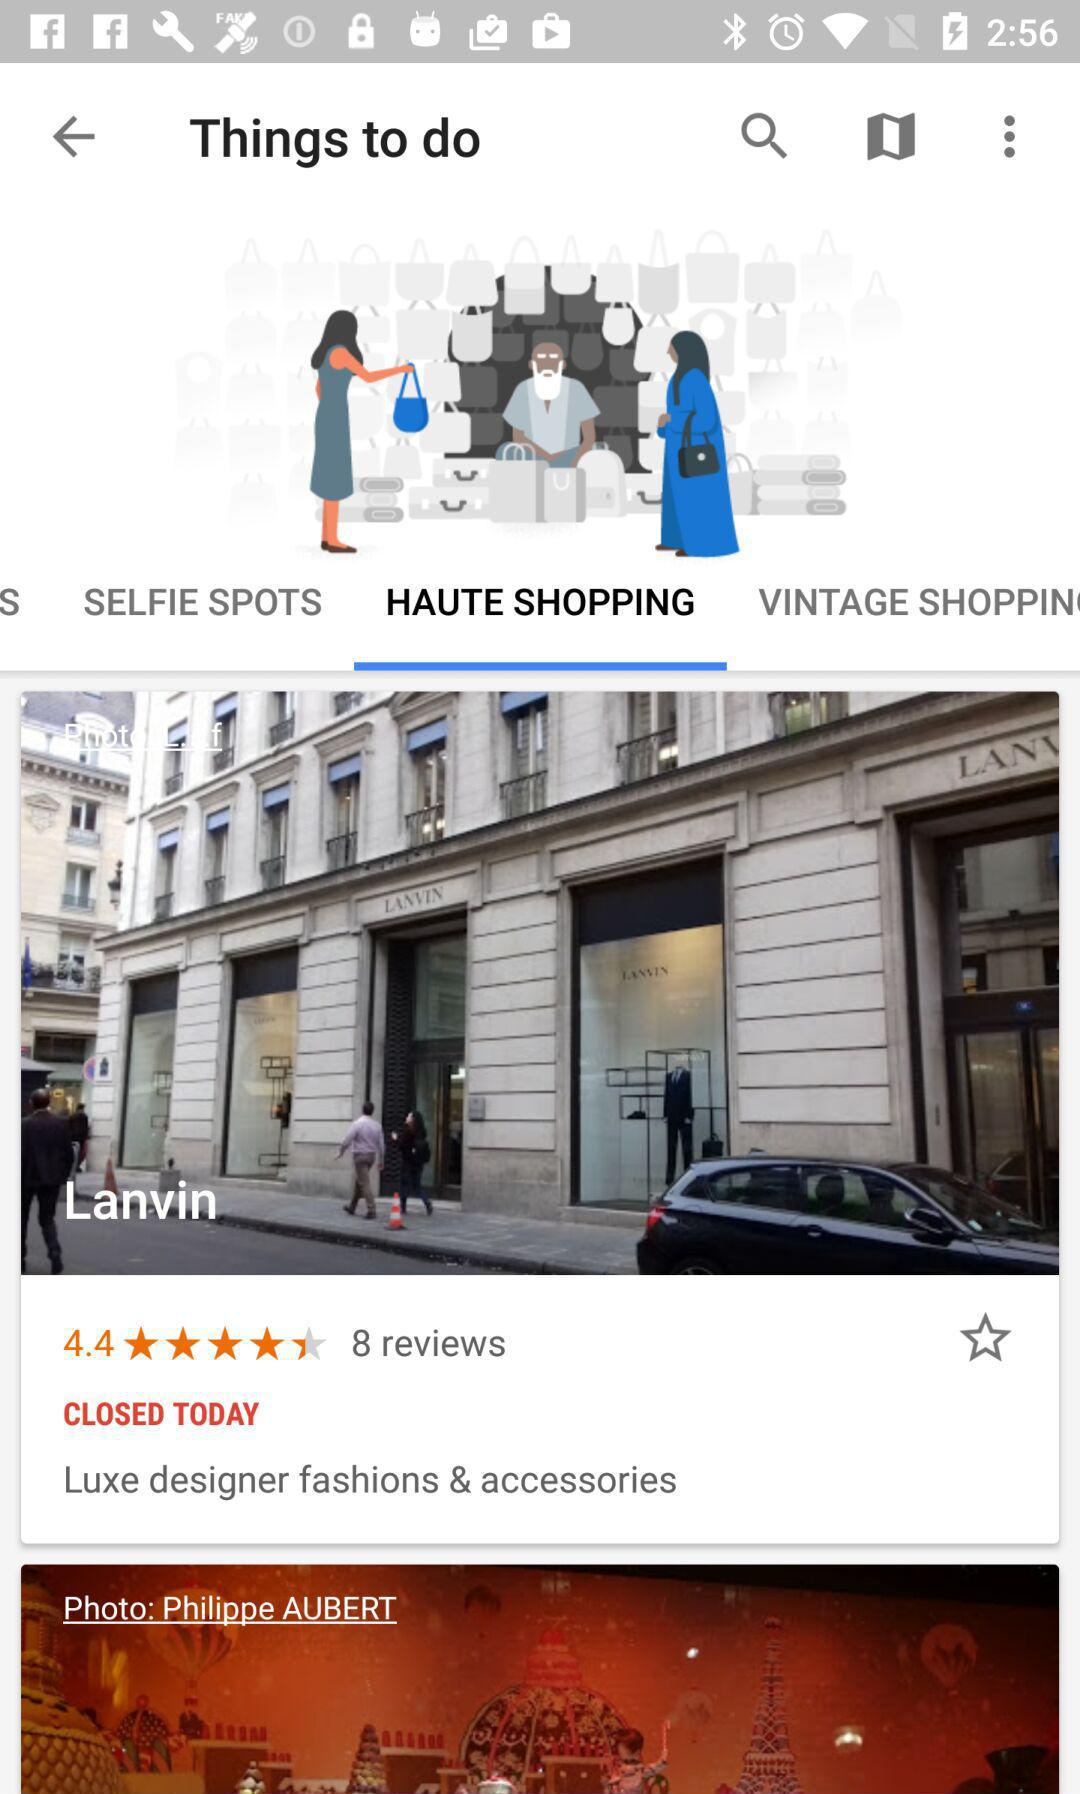Card: (22, 1278, 1060, 1545)
Icon: (123, 1326, 329, 1362), (960, 1311, 1013, 1363), (866, 111, 916, 163), (740, 113, 789, 161), (53, 117, 96, 159), (1003, 115, 1016, 160)
Image: (20, 692, 1060, 1278), (20, 1563, 1060, 1794), (176, 233, 901, 560)
Multi_Tab: (1, 565, 1080, 674)
Text: (67, 1463, 678, 1501), (190, 117, 480, 170), (63, 1593, 398, 1626), (387, 587, 694, 618), (758, 588, 1080, 616), (85, 587, 323, 616), (65, 1179, 218, 1221), (64, 1401, 261, 1426), (352, 1328, 507, 1360), (64, 1328, 117, 1360)
UpperTaskBar: (1, 1, 1080, 64)
